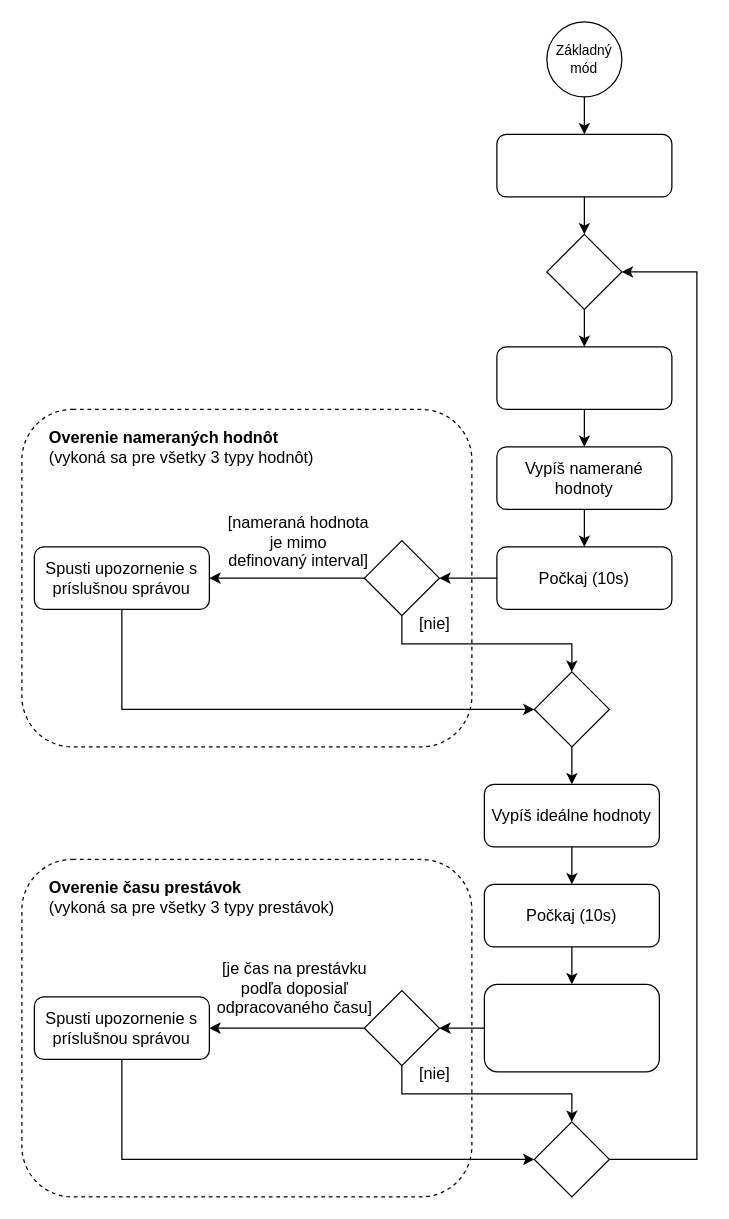
Image size: 729x1219. Some labels were removed from this diagram. Here are the shapes that lost their labels. From the top down, the centre of each, then its label:
the point at 584,165: Inicializuj čas začiatku práce
the point at 584,377: Načítaj hodnoty prostredia zo senzorov
the point at 571,1027: Vypíš pomocou timeru (10s počítanie) doposiaľ odpracovaný čas
